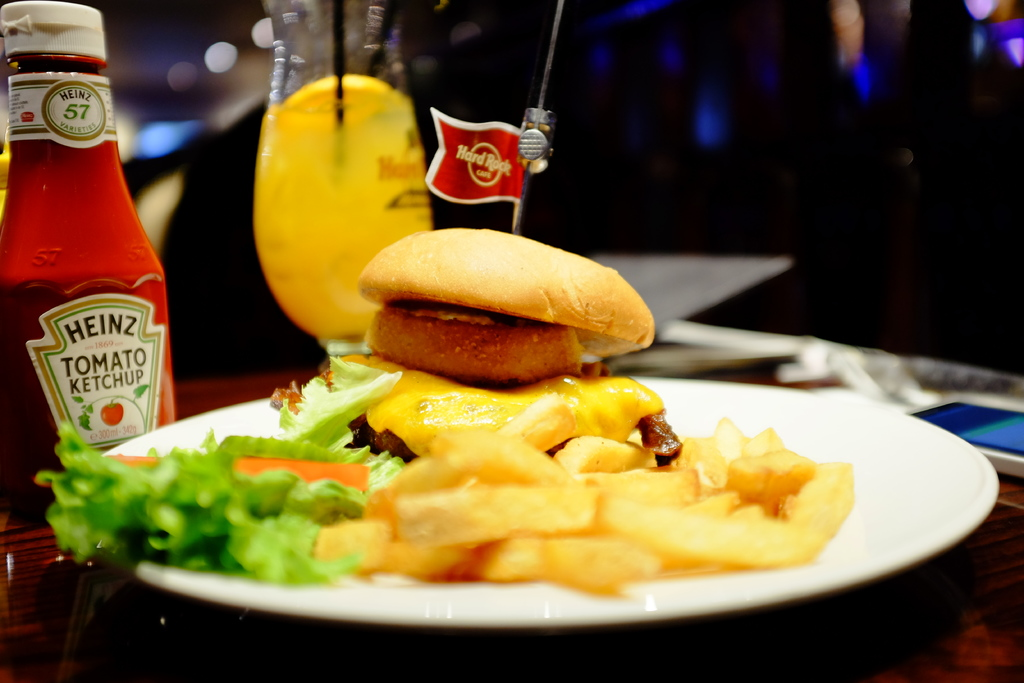French fries: (215, 386, 869, 606)
